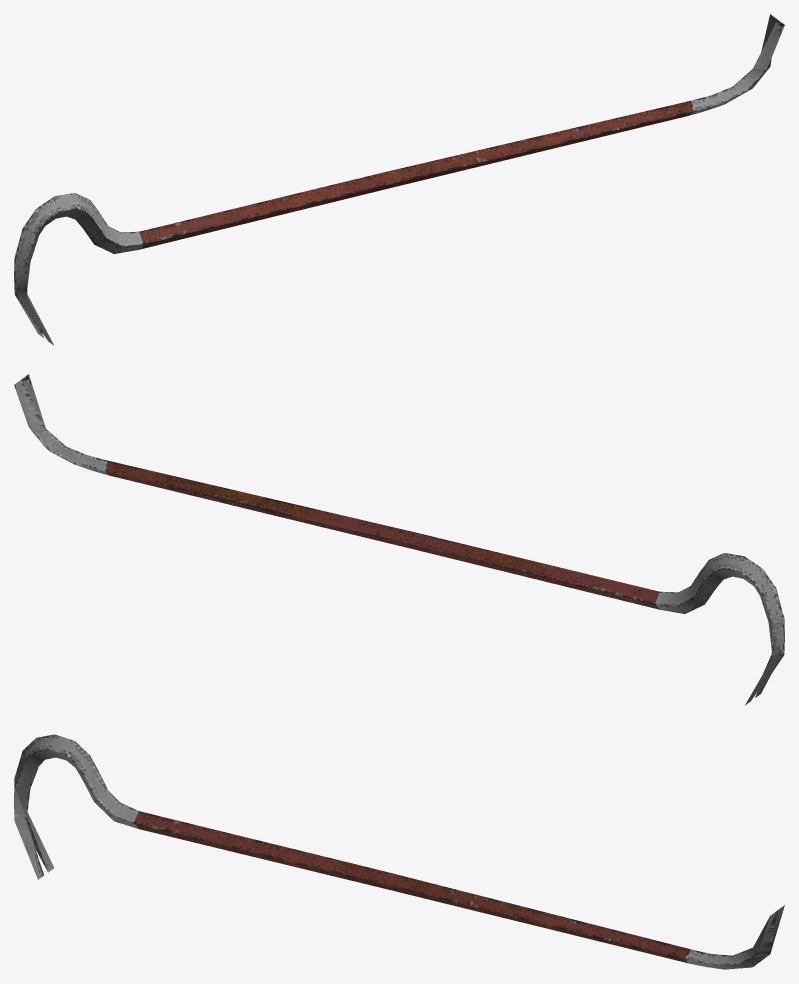
Rendered from crowbar_ps1.glb.
The picture shows the model from 3 angles, top to bottom: view 1: azimuth 30°, elevation 25°; view 2: azimuth 150°, elevation 25°; view 3: azimuth 330°, elevation 25°; orthographic projection.
Visible parts, largest first — view 1: crowbar; view 2: crowbar; view 3: crowbar.
Part boxes in pixels (<box>): crowbar: <box>14,14,784,345</box>; crowbar: <box>14,374,784,705</box>; crowbar: <box>14,734,784,969</box>.
Size of the model in its own units: 4.75 by 0.845 by 0.1763.
Materials: 1 (1 with a texture image).
